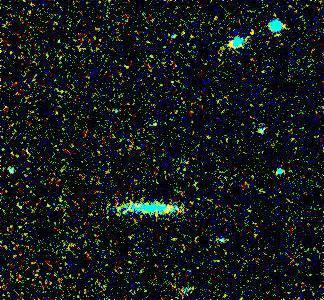star: (235, 15, 265, 45)
